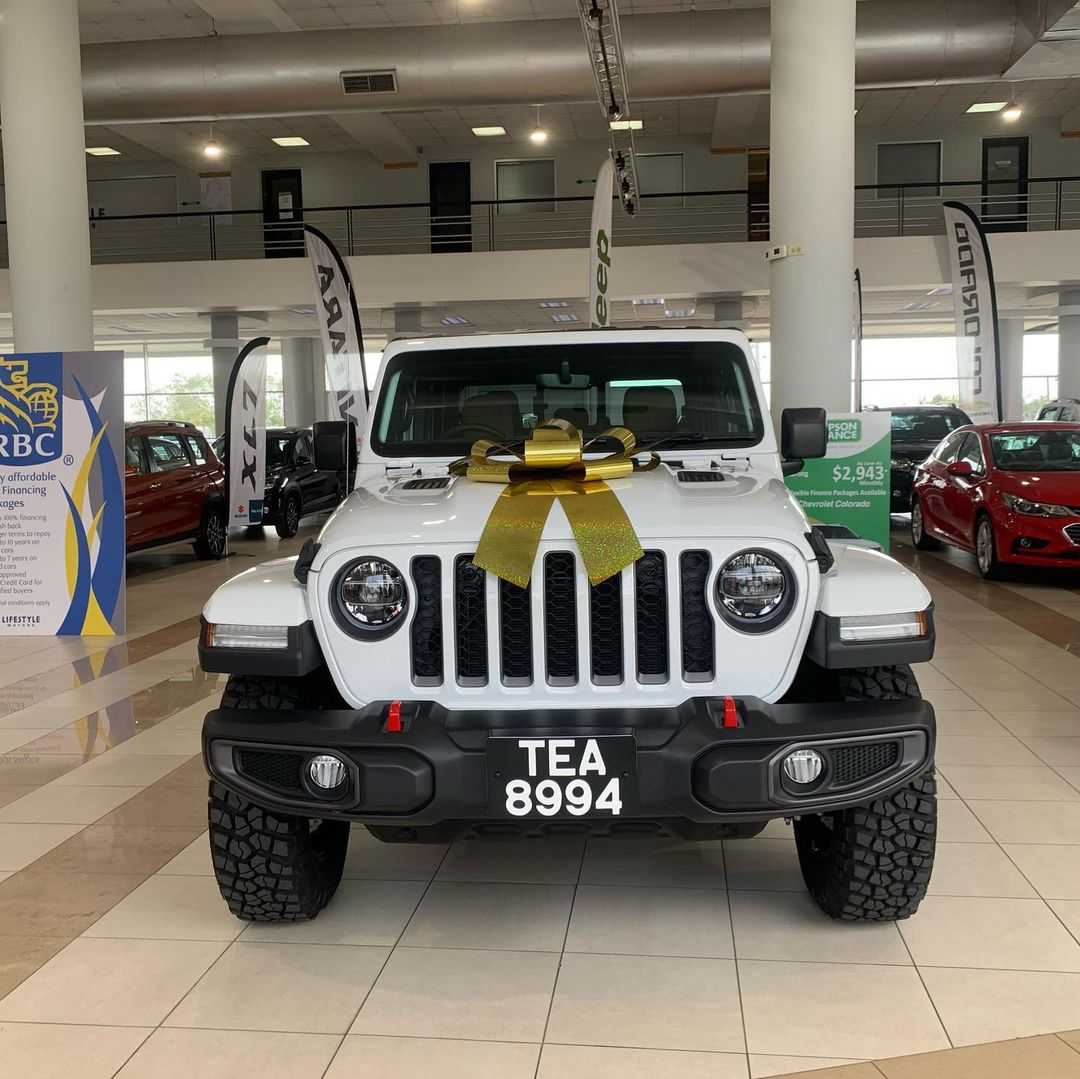License-Plate: (485, 737, 635, 818)
